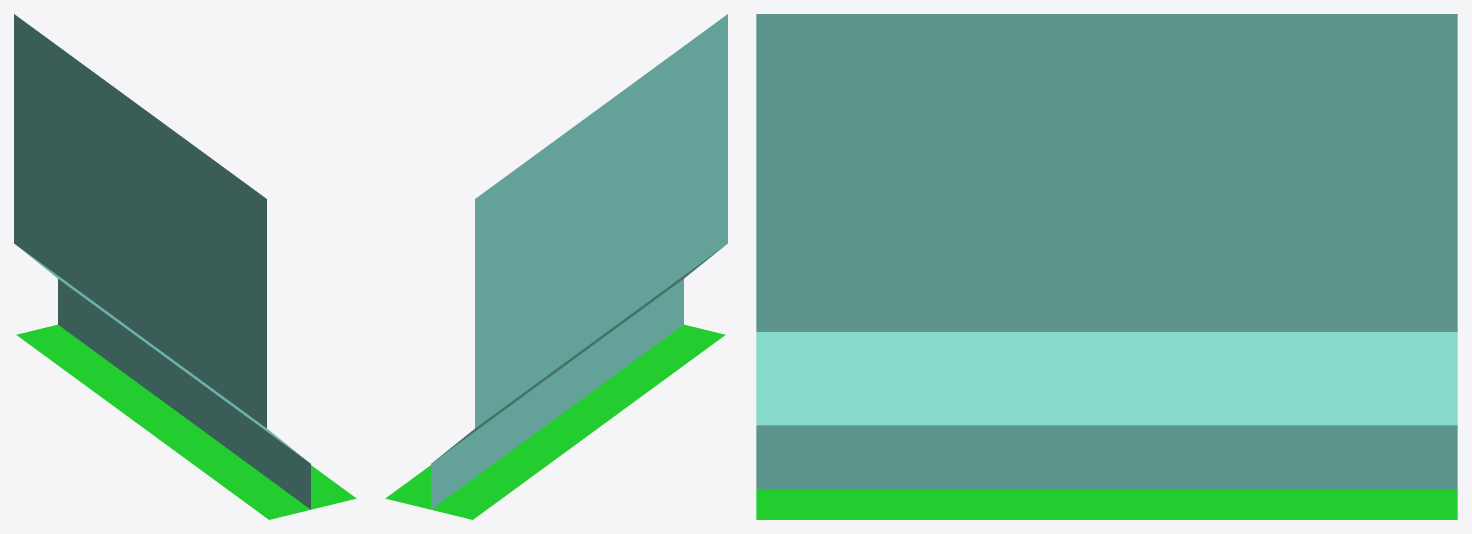
The model's file is Extra_Wall.fbx.
The picture shows the model from 3 angles, left to right: view 1: azimuth 30°, elevation 25°; view 2: azimuth 150°, elevation 25°; view 3: azimuth 270°, elevation 25°; orthographic projection. The views are drawn at different scales.
Visible parts, largest first — view 1: Wall.027; view 2: Wall.027; view 3: Wall.027.
Boxes of the visible parts, x1,y1,x2,y2 form: Wall.027: (14,14,356,519); Wall.027: (385,14,727,519); Wall.027: (756,14,1457,519).
Bounding box in the file's own units: 205 × 700 × 999.
